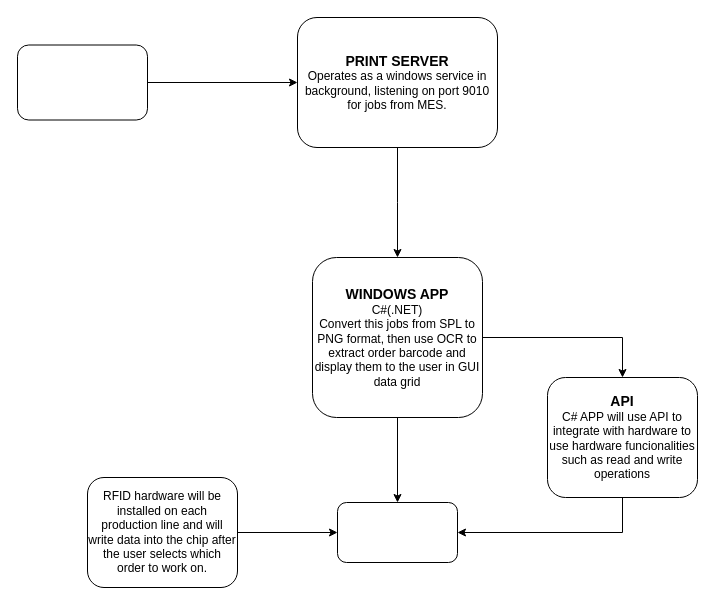
This 715x605 diagram has some shape labels left out. The centre of each missing label's shape, as x and y in pixels:
"MES" belongs at point 82,82.
"RFID HARDWARE Reader/Writer" belongs at point 397,532.
